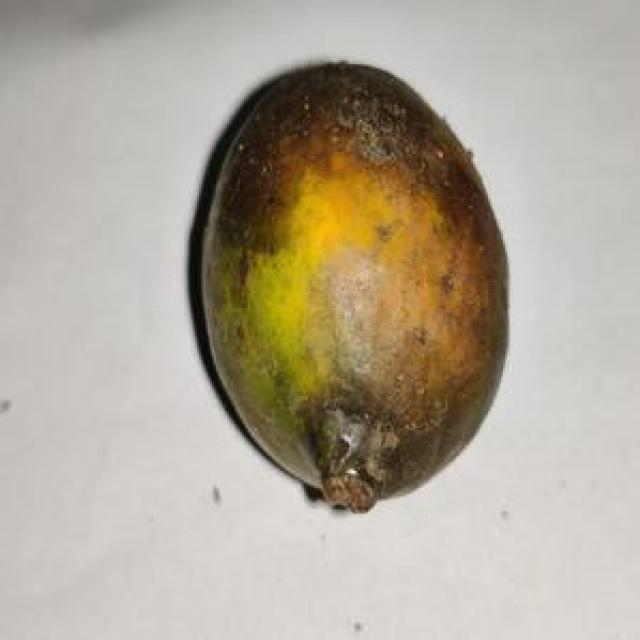damaged: (195, 62, 505, 512)
